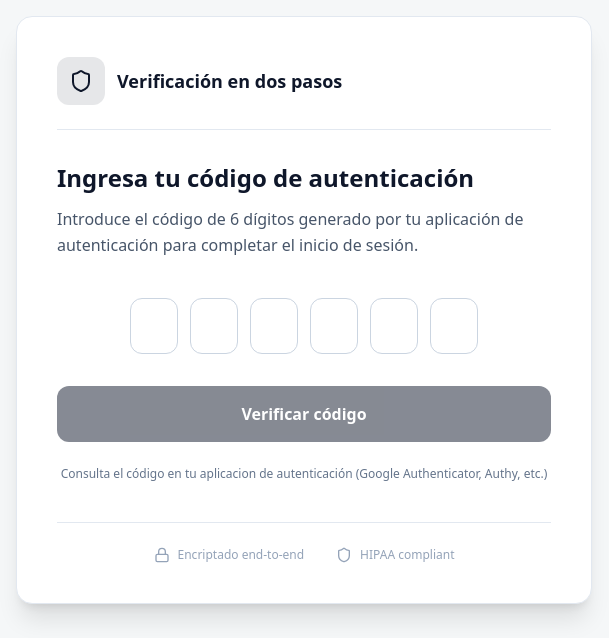
Test: LoginTwoFactorPage › Entrada de OTP › debe limitar a 1 dígito por input
Type "12" into the 1st field. click: (154, 326)
box: top-left (130, 298), bottom-right (178, 354)
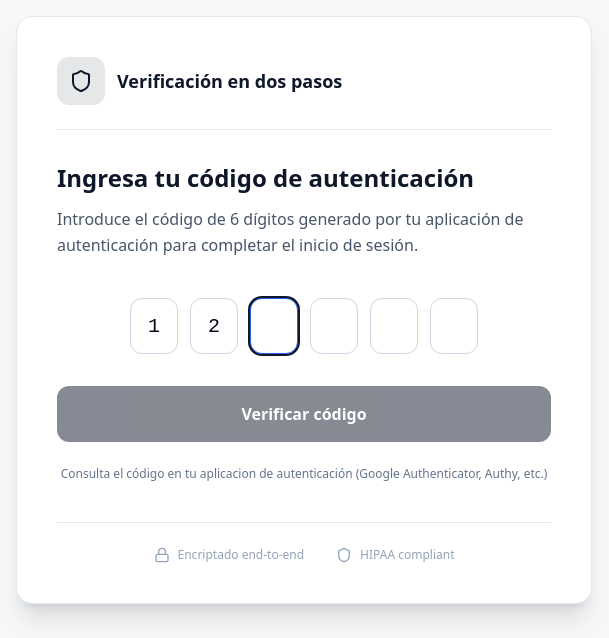
Result: the 1st field holds "1" at top-left (130, 298), bottom-right (178, 354)
